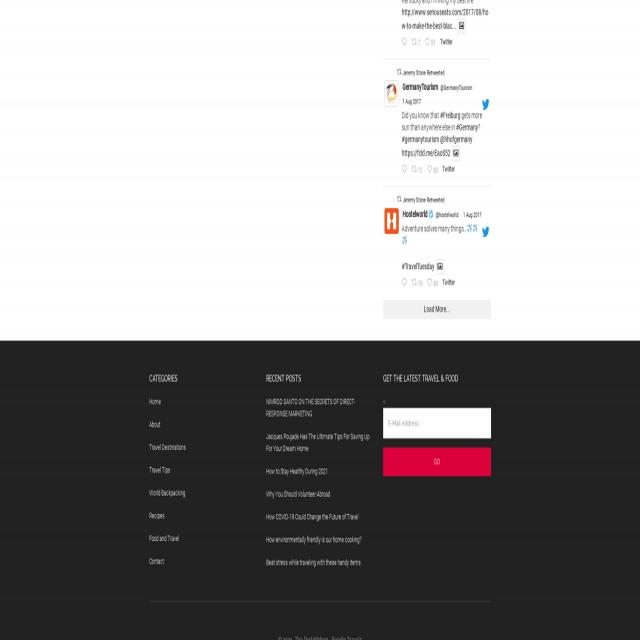button: (385, 80, 399, 106), (385, 208, 399, 234), (482, 98, 490, 111), (482, 226, 490, 238), (411, 36, 417, 48), (424, 36, 430, 48), (411, 276, 417, 288), (411, 163, 417, 174), (402, 36, 407, 48), (402, 276, 407, 288), (427, 276, 432, 288), (402, 163, 407, 174), (427, 163, 432, 174), (472, 224, 478, 232), (428, 210, 434, 218), (402, 236, 407, 245), (459, 21, 464, 30), (467, 224, 472, 232), (454, 148, 458, 158), (438, 262, 442, 271), (397, 68, 401, 76), (397, 195, 401, 203)
field: (383, 408, 491, 439), (383, 448, 491, 477)
